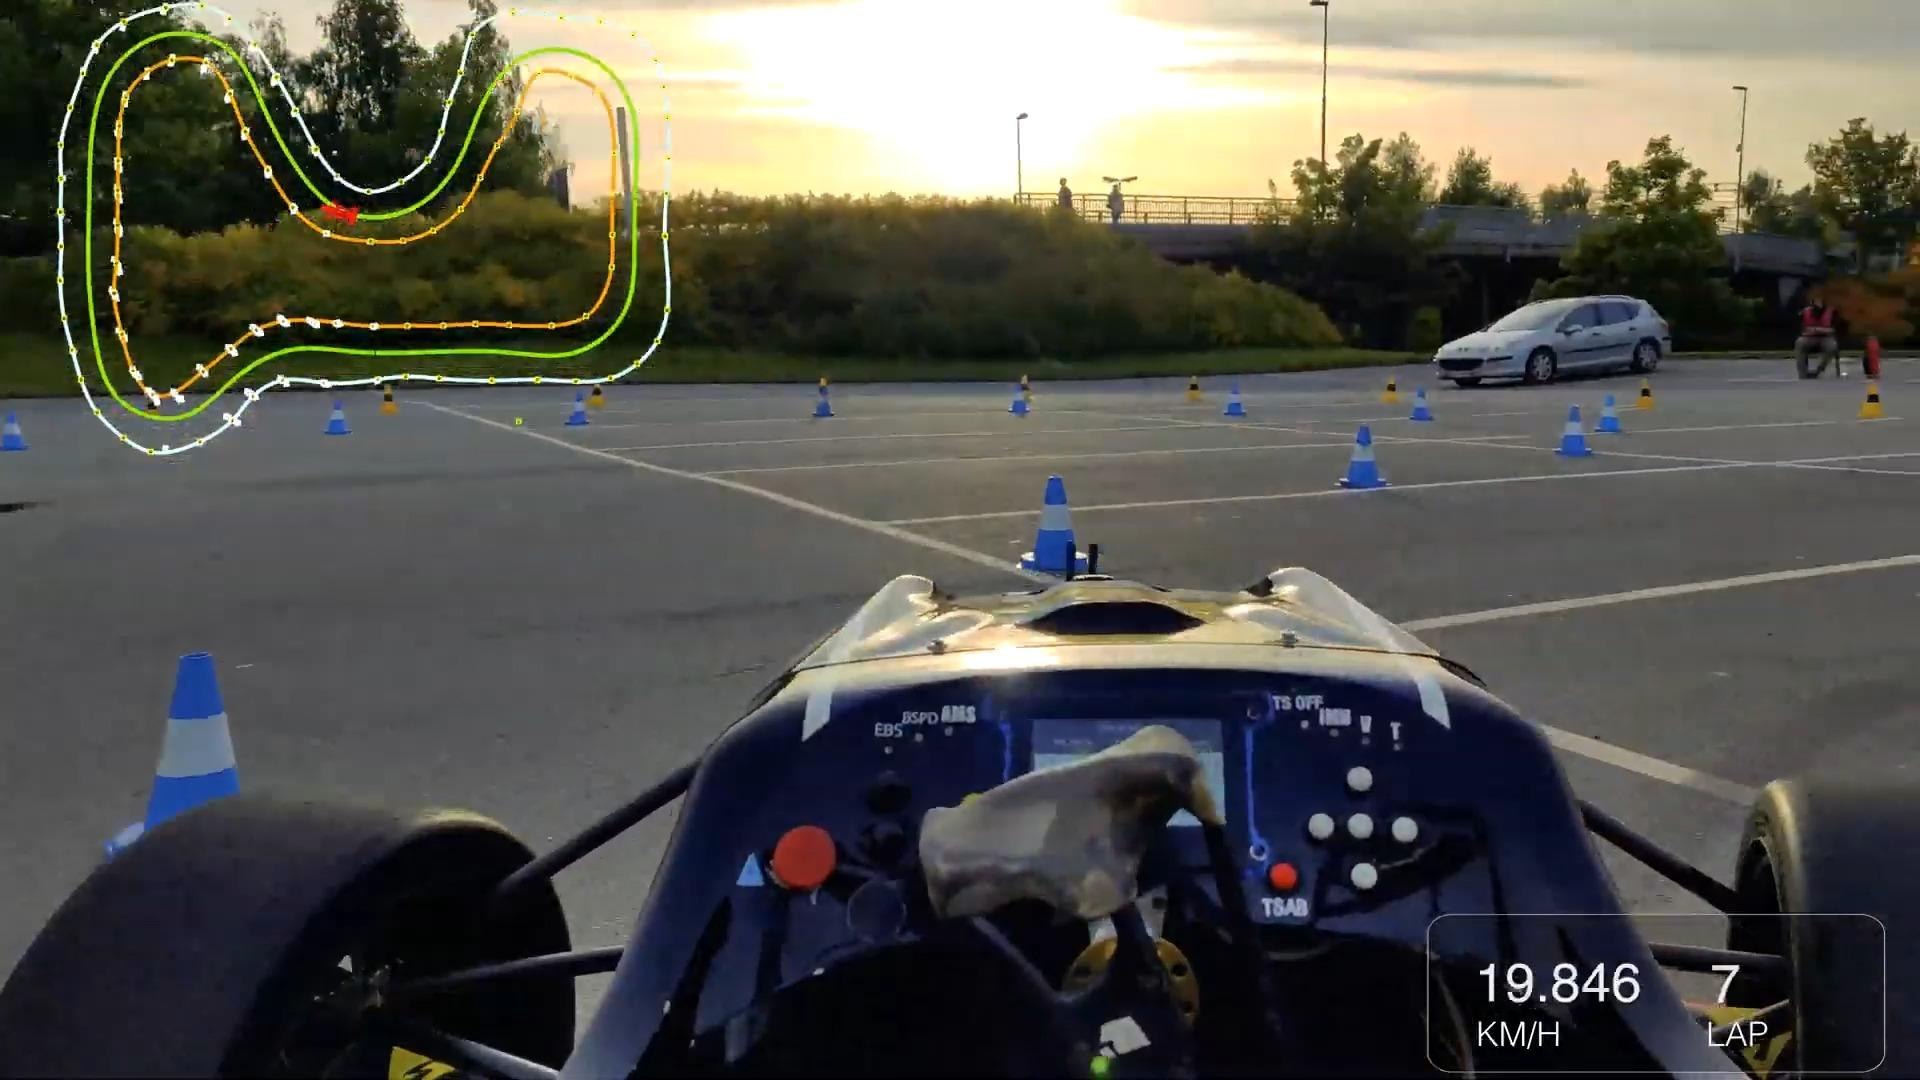blue_cone: (98, 653, 289, 878), (1015, 469, 1098, 574), (1331, 422, 1390, 493), (1556, 402, 1592, 458), (0, 406, 29, 452), (324, 393, 353, 436), (1594, 393, 1622, 435), (1410, 384, 1437, 425), (566, 388, 592, 430), (1224, 381, 1247, 422), (814, 381, 839, 419), (1007, 381, 1030, 419)
yellow_cone: (1857, 378, 1887, 423), (144, 386, 166, 430), (377, 380, 402, 418), (1635, 373, 1659, 413), (1381, 368, 1402, 411), (814, 375, 836, 410), (1185, 372, 1208, 405), (1017, 372, 1038, 406), (591, 375, 612, 409)
